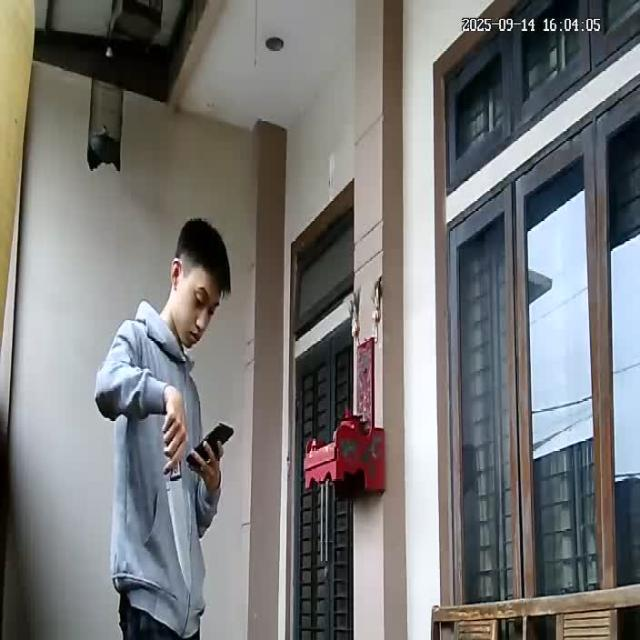senjata_tajam: (165, 470, 195, 597)
